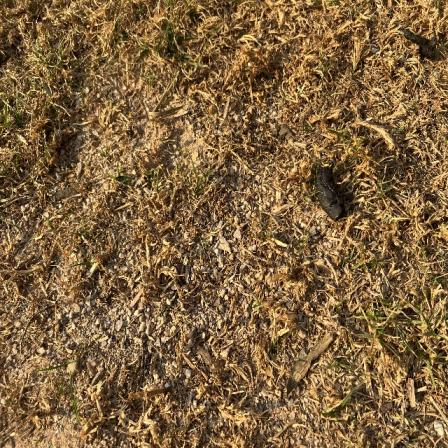dog-poop: (306, 160, 352, 230)
